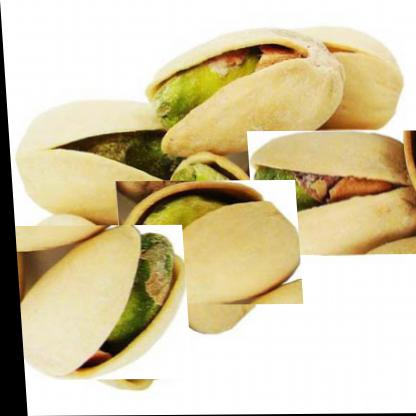pistachio: (12, 219, 183, 387), (142, 28, 348, 155), (126, 166, 287, 320), (11, 100, 188, 229), (243, 130, 415, 257)
